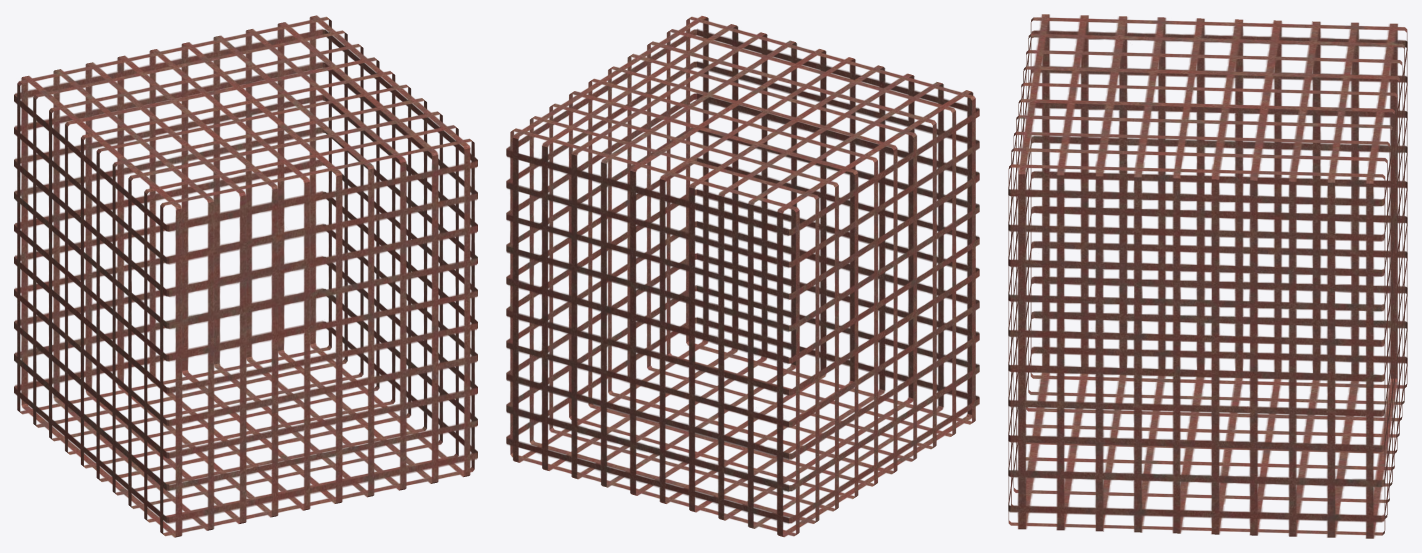
File: cage_big_wide.glb
The picture shows the model from 3 angles, left to right: view 1: azimuth 30°, elevation 25°; view 2: azimuth 150°, elevation 25°; view 3: azimuth 270°, elevation 25°; orthographic projection. The views are drawn at different scales.
Parts seen in each view (by area): view 1: cage_big_wide_Baked; view 2: cage_big_wide_Baked; view 3: cage_big_wide_Baked.
Boxes of the visible parts, x1=… form: cage_big_wide_Baked: x1=14, y1=15, x2=477, y2=537; cage_big_wide_Baked: x1=506, y1=16, x2=979, y2=537; cage_big_wide_Baked: x1=1008, y1=14, x2=1407, y2=538.
Bounding box in the file's own units: 2.06 × 2.04 × 2.06.
1 material, 1 textured.
